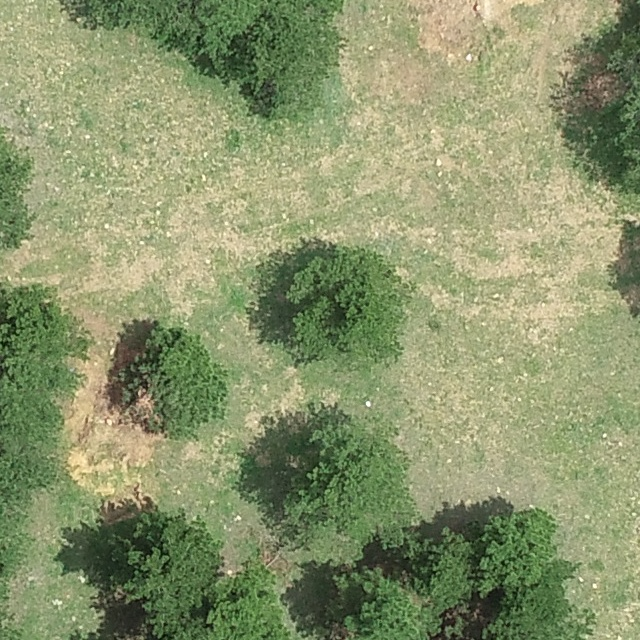unhealthy: (579, 69, 621, 110), (134, 385, 155, 413)
